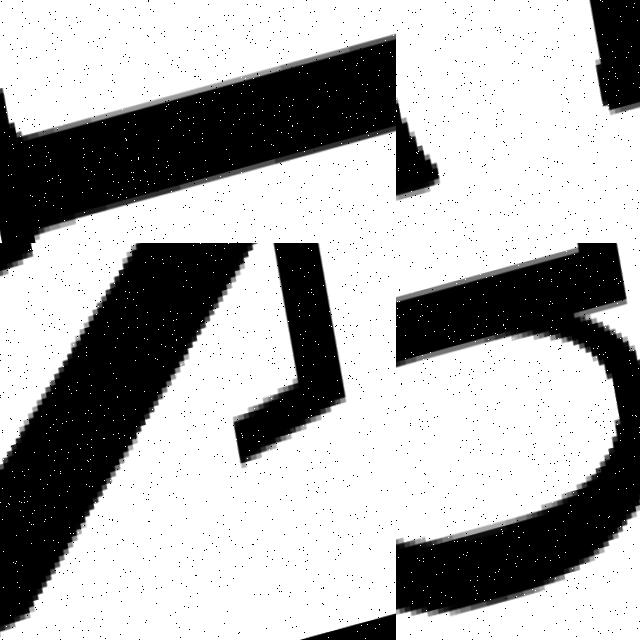5: (396, 0, 640, 219)
G: (396, 243, 640, 640)
L: (0, 0, 396, 243)
Z: (0, 243, 396, 640)
